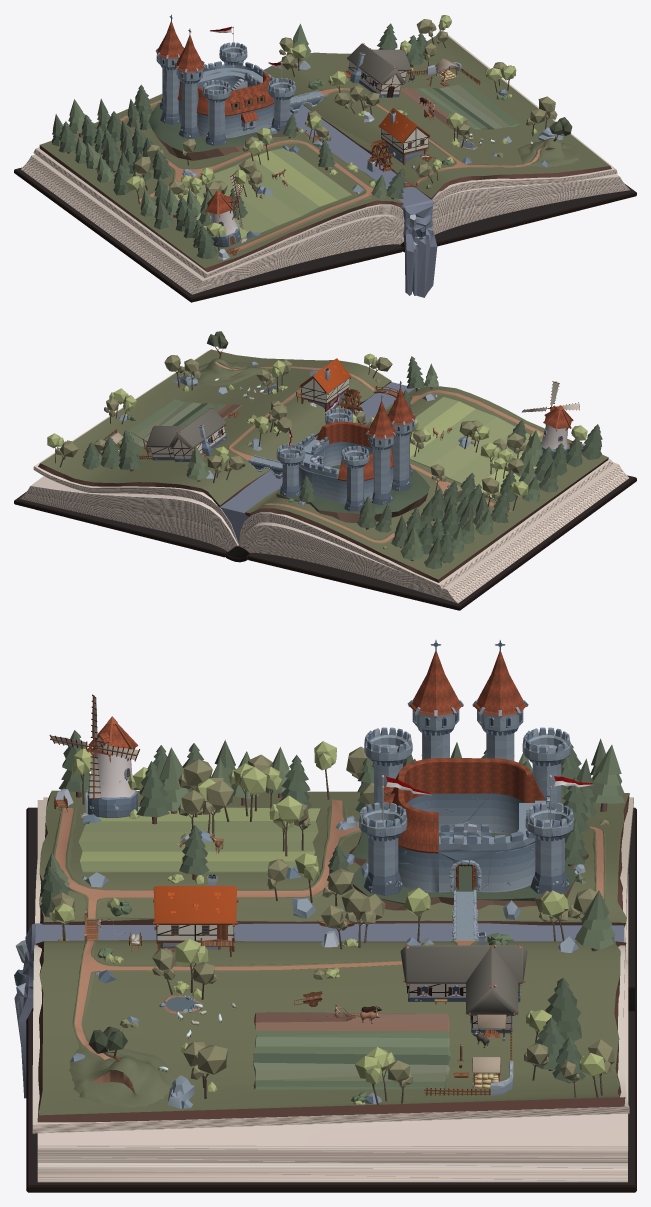
Rendered from Book.fbx.
3 renders of one model, top to bottom at view 1: azimuth 30°, elevation 25°; view 2: azimuth 150°, elevation 25°; view 3: azimuth 270°, elevation 25°, orthographic. The views are drawn at different scales.
Parts seen in each view (by area): view 1: Scene, Waterfall, Mill-water-wheel; view 2: Scene, Waterfall; view 3: Scene, Waterfall, Mill-wind-wheel.
Part boxes in pixels (x1,y1,x2,y2): Scene: (14,14,636,302); Waterfall: (290,105,437,297); Mill-water-wheel: (367,139,393,171); Scene: (14,331,636,610); Waterfall: (220,382,415,543); Scene: (14,640,636,1192); Waterfall: (14,923,624,1098); Mill-wind-wheel: (49,694,139,799).
Size of the model in its own units: 0.5529 by 0.249 by 0.388.
